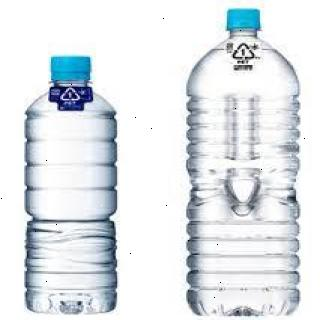Plastic-bottle: (183, 6, 307, 320), (22, 54, 124, 317)
